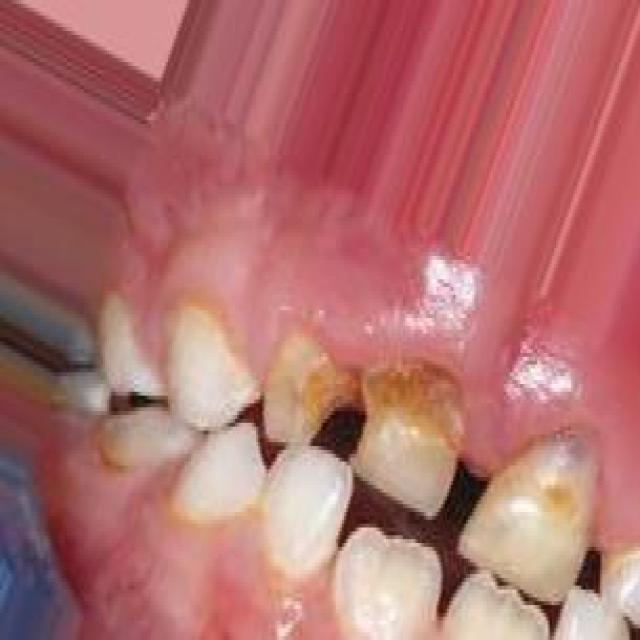caries: (346, 353, 456, 470), (262, 338, 346, 439)
